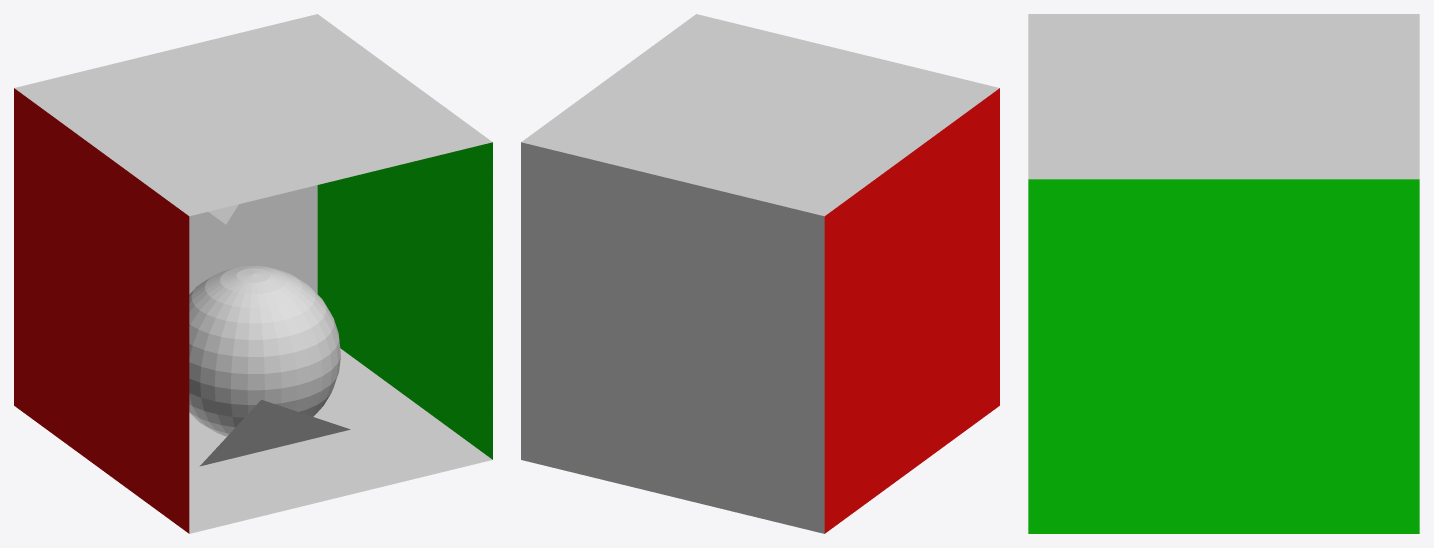
Rendered from my_Cornell_Box_portals_x1.obj.
3 renders of one model, left to right at view 1: azimuth 30°, elevation 25°; view 2: azimuth 150°, elevation 25°; view 3: azimuth 270°, elevation 25°, orthographic. The views are drawn at different scales.
Visible parts, largest first — view 1: Plane.004, Plane, Plane.003, Plane.001, Sphere, Plane.002, Plane.007; view 2: Plane.002, Plane.004, Plane; view 3: Plane.003, Plane.
Part boxes in pixels (x1=…): Plane.004: x1=14, y1=88, x2=189, y2=533; Plane: x1=14, y1=14, x2=492, y2=216; Plane.003: x1=317, y1=142, x2=492, y2=459; Plane.001: x1=189, y1=348, x2=492, y2=533; Sphere: x1=189, y1=266, x2=340, y2=436; Plane.002: x1=189, y1=185, x2=317, y2=293; Plane.007: x1=199, y1=399, x2=350, y2=466; Plane.002: x1=521, y1=142, x2=824, y2=533; Plane.004: x1=824, y1=88, x2=999, y2=533; Plane: x1=521, y1=14, x2=999, y2=216; Plane.003: x1=1028, y1=179, x2=1419, y2=533; Plane: x1=1028, y1=14, x2=1419, y2=179.
Size of the model in its own units: 400 by 400 by 400.
